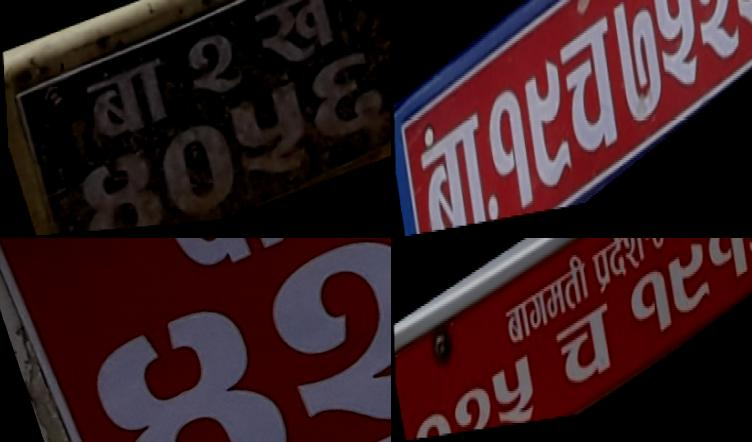0: (147, 114, 246, 229), (407, 396, 458, 440), (645, 238, 669, 268)
1: (482, 72, 536, 225), (624, 264, 676, 363), (703, 238, 752, 315), (660, 238, 683, 261)
2: (251, 238, 391, 442), (176, 26, 255, 113), (685, 0, 743, 97), (446, 372, 501, 436)
3: (723, 0, 752, 75)
4: (63, 285, 303, 442), (67, 142, 174, 234)
5: (221, 80, 322, 196), (648, 0, 706, 125), (487, 348, 541, 431)
6: (296, 44, 391, 160)
7: (610, 0, 668, 154)
9: (518, 48, 574, 212), (662, 241, 716, 339)
ba: (118, 238, 320, 297), (74, 52, 186, 156), (413, 98, 496, 235), (500, 295, 534, 358)
cha: (556, 3, 628, 190), (550, 297, 621, 414)
kha: (244, 0, 357, 84)
